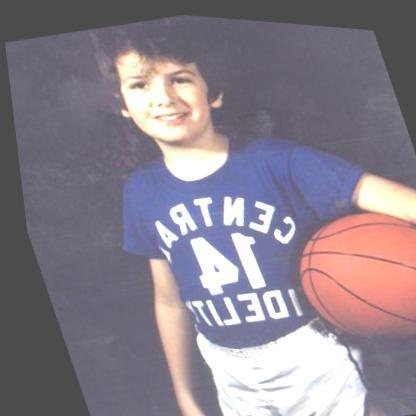basketball: (276, 189, 416, 350)
